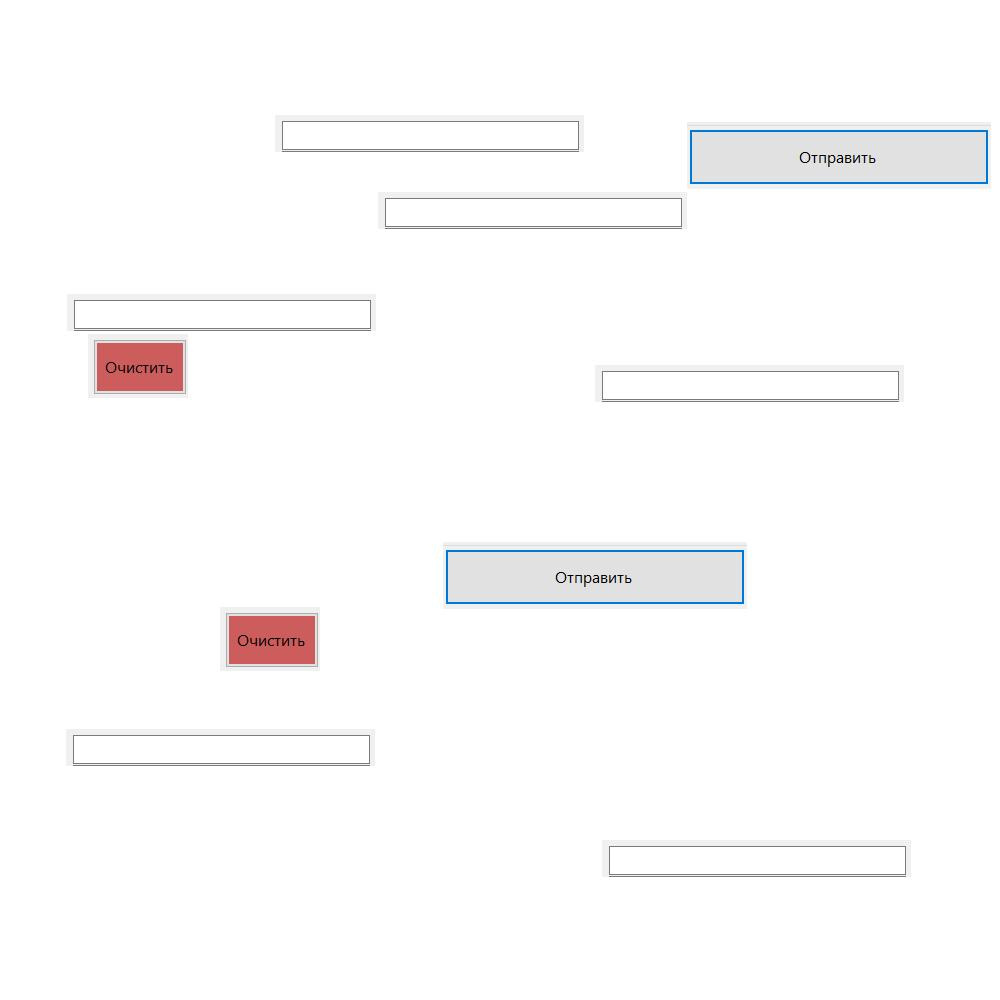Button: (443, 542, 747, 609), (687, 122, 991, 189), (88, 334, 188, 398), (220, 607, 320, 671)
EditText-: (67, 294, 376, 331), (602, 840, 911, 877), (66, 729, 375, 766), (378, 192, 687, 229), (275, 115, 584, 152), (595, 365, 904, 402)
